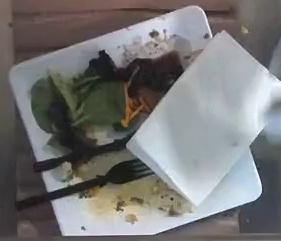lettuce: (32, 74, 128, 149)
